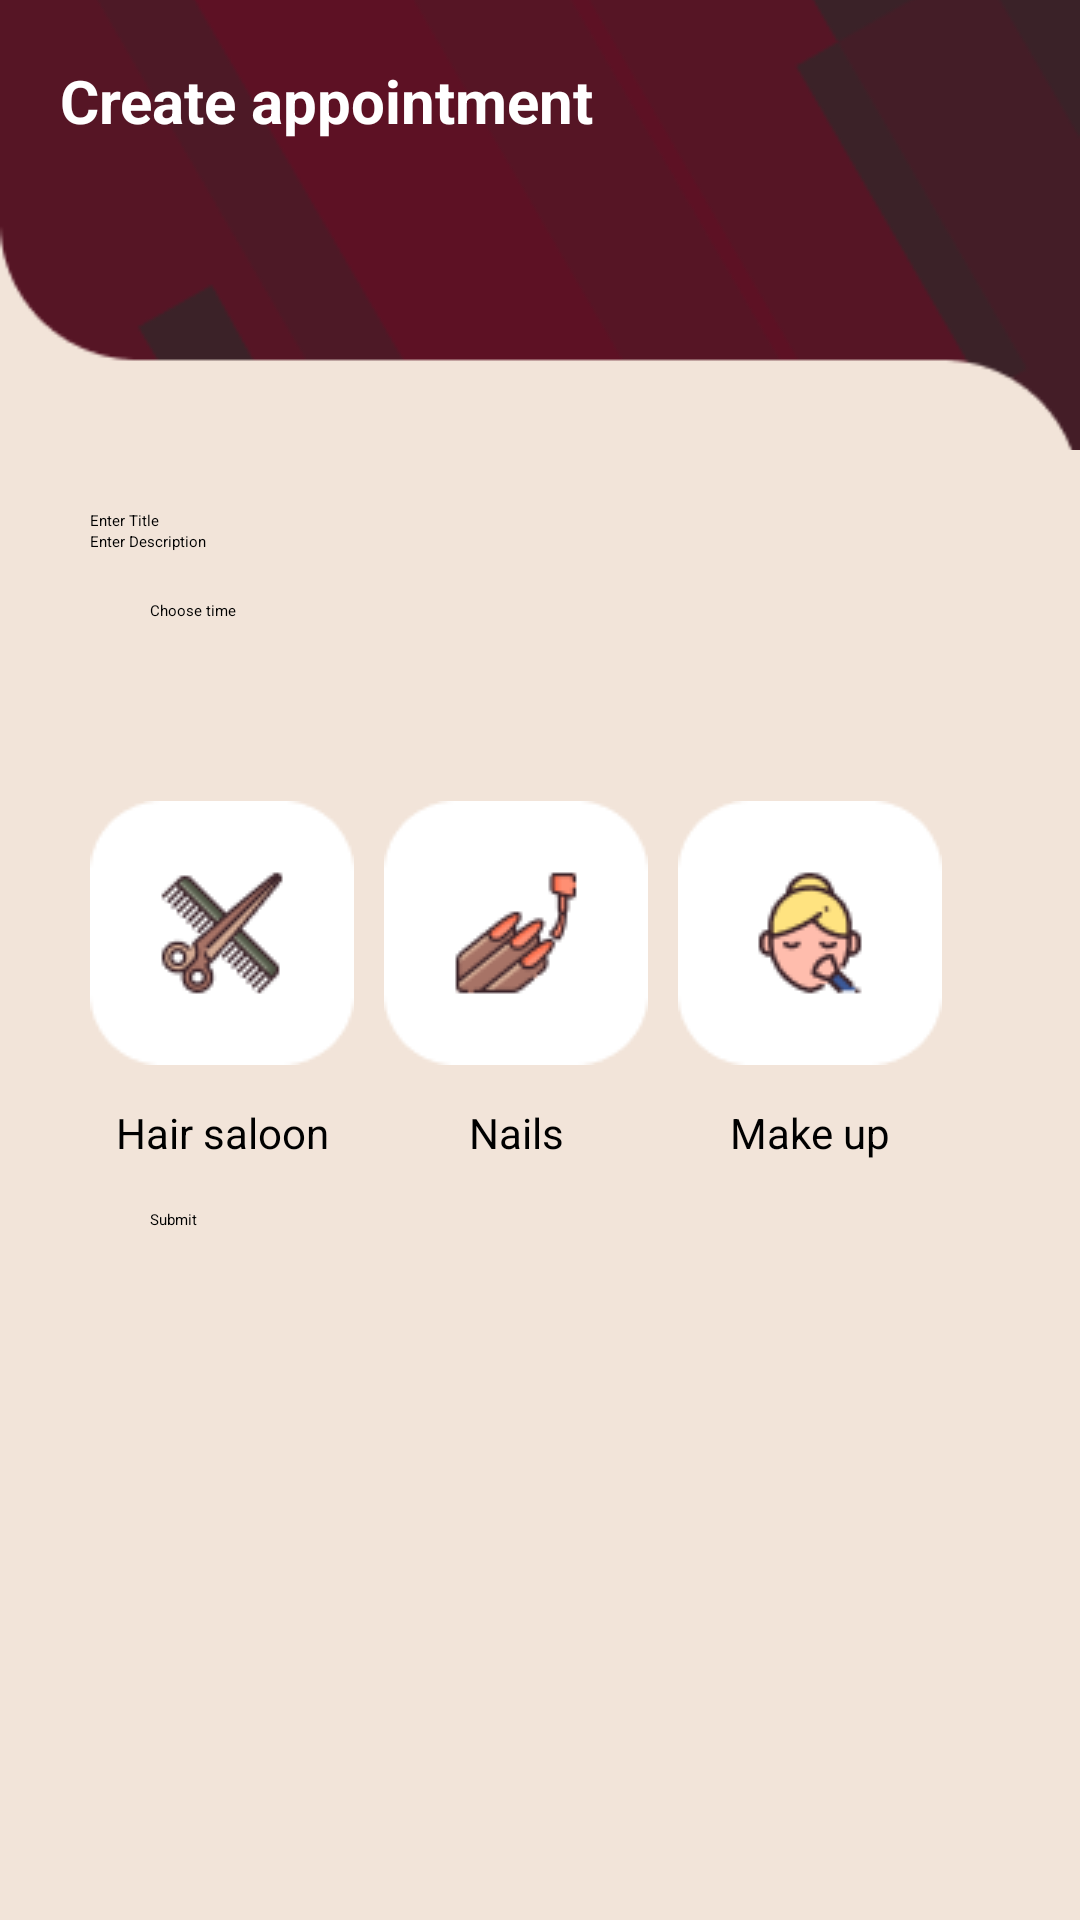

Screen size 1080px x 1920px. Icon name, then its box in pixels as (x1, y1, x2, y2):
service: (90, 801, 354, 1065), (384, 801, 648, 1065), (678, 801, 942, 1065)
